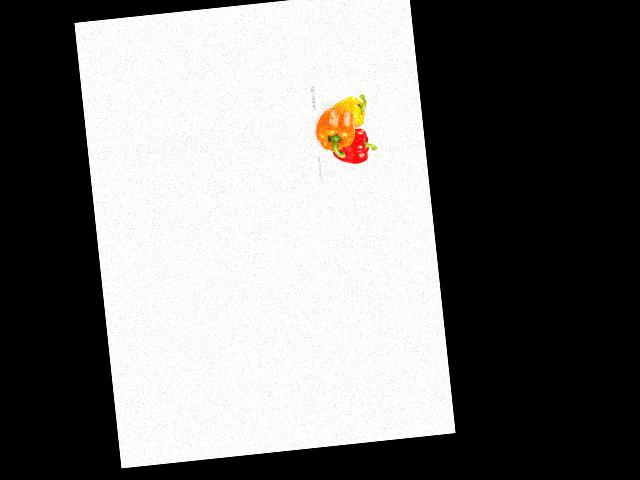bell_pepper: (330, 92, 371, 131)
